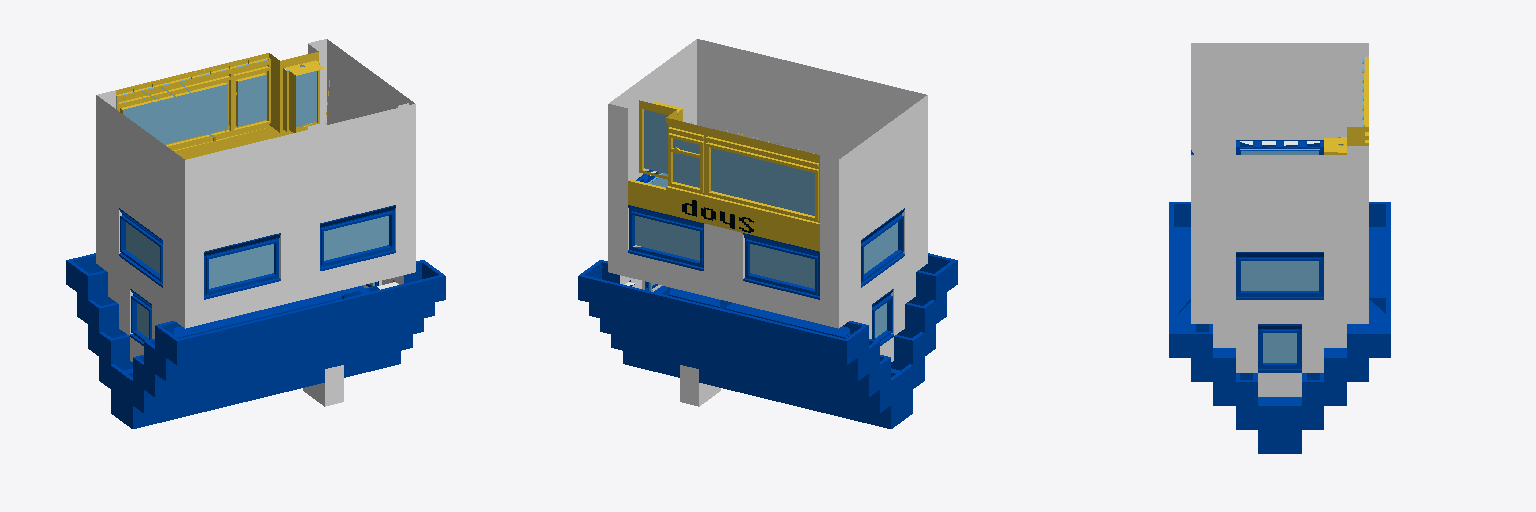
The model's file is White Two Storey Shop.obj.
3 views of the same model, side by side, from view 1: azimuth 30°, elevation 25°; view 2: azimuth 150°, elevation 25°; view 3: azimuth 270°, elevation 25° (orthographic).
Parts seen in each view (by area): view 1: default; view 2: default; view 3: default.
Boxes of the visible parts, x1,y1,x2,y2 form: default: [66, 39, 445, 428]; default: [578, 39, 957, 428]; default: [1169, 43, 1390, 453].
Size of the model in its own units: 280 by 312 by 200.